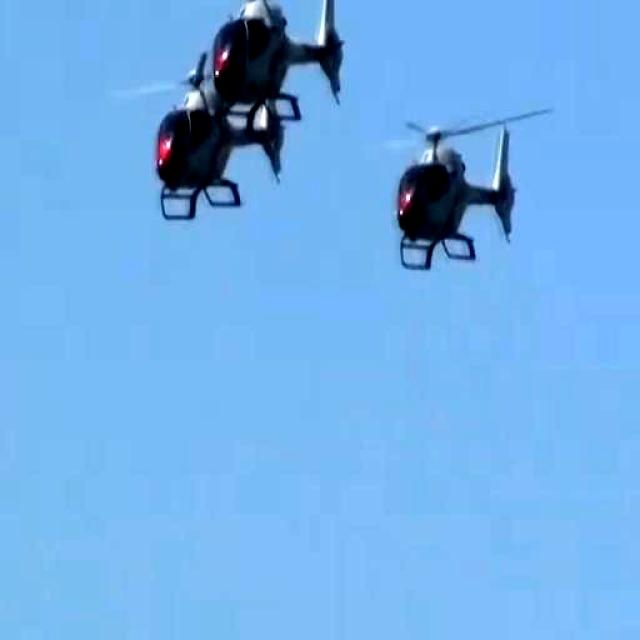drone: (390, 119, 528, 285), (154, 81, 290, 230), (212, 0, 364, 124)
